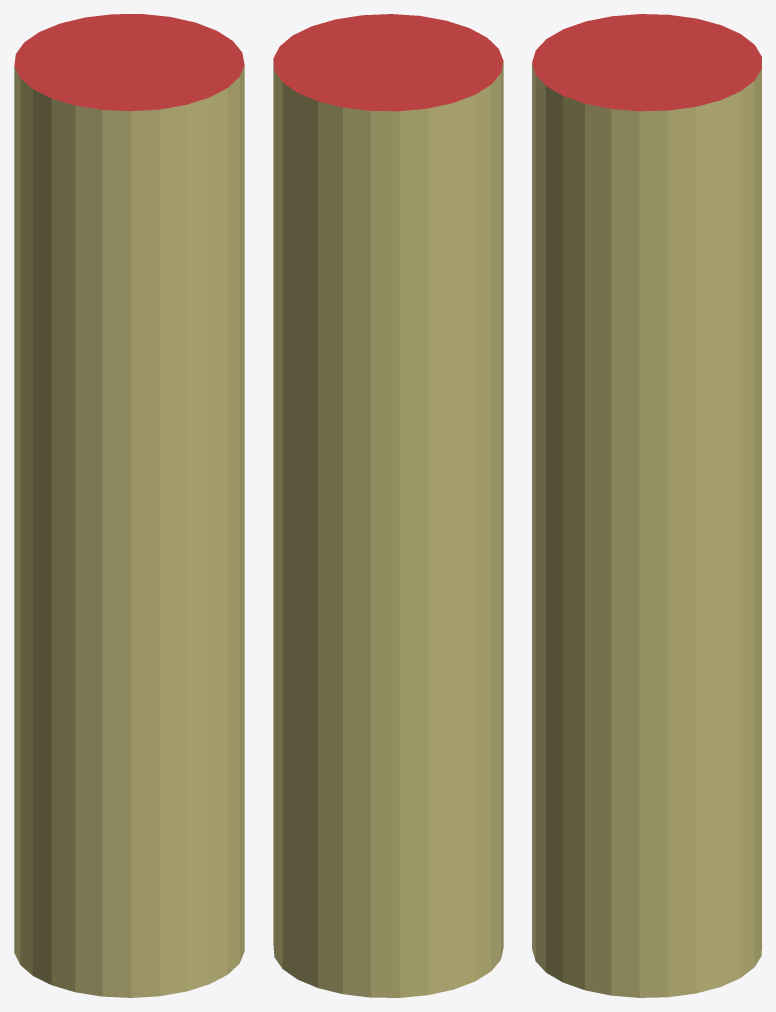
3 views of the same model, side by side, from view 1: azimuth 30°, elevation 25°; view 2: azimuth 150°, elevation 25°; view 3: azimuth 270°, elevation 25° (orthographic).
Bounding box in the file's own units: 3.67 × 3.66 × 15.6.
